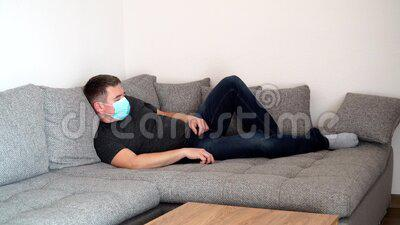OK: (108, 88, 130, 123)
